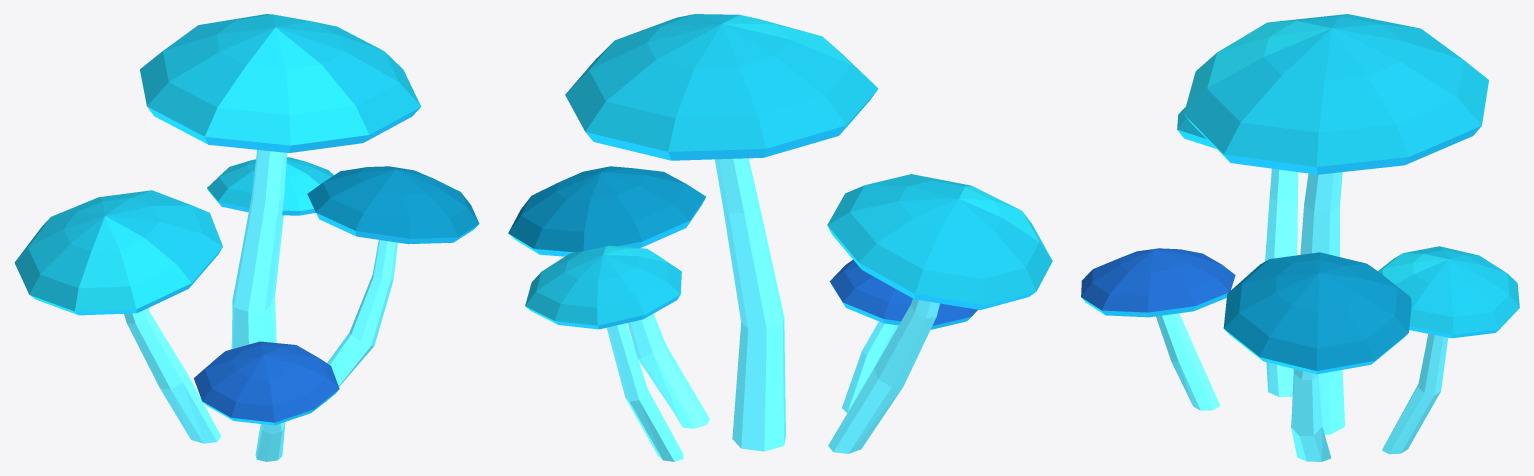
The model's file is Hongos_bioluminiscentes.glb.
3 views of the same model, side by side, from view 1: azimuth 30°, elevation 25°; view 2: azimuth 150°, elevation 25°; view 3: azimuth 270°, elevation 25° (orthographic). The views are drawn at different scales.
Parts seen in each view (by area): view 1: 01_Principal_Sombrero_cian, 02_Izquierdo_Sombrero_cian, 01_Principal_Facetas_cian, 03_Derecho_Sombrero_azul_turquesa, 04_Frontal_Sombrero_azul, 01_Principal_Tallos_cian, 02_Izquierdo_Facetas_cian, 02_Izquierdo_Tallos_cian, 03_Derecho_Tallos_cian, 05_Posterior_Sombrero_cian, 01_Principal_Borde_azul_emisivo, 05_Posterior_Facetas_cian (+3 smaller); view 2: 01_Principal_Sombrero_cian, 02_Izquierdo_Sombrero_cian, 01_Principal_Tallos_cian, 03_Derecho_Sombrero_azul_turquesa, 05_Posterior_Sombrero_cian, 02_Izquierdo_Tallos_cian, 03_Derecho_Tallos_cian, 05_Posterior_Tallos_cian, 04_Frontal_Sombrero_azul, 01_Principal_Borde_azul_emisivo, 01_Principal_Facetas_cian, 04_Frontal_Tallos_cian (+4 smaller); view 3: 01_Principal_Sombrero_cian, 03_Derecho_Sombrero_azul_turquesa, 05_Posterior_Sombrero_cian, 04_Frontal_Sombrero_azul, 01_Principal_Tallos_cian, 01_Principal_Facetas_cian, 02_Izquierdo_Tallos_cian, 05_Posterior_Tallos_cian, 04_Frontal_Tallos_cian, 03_Derecho_Tallos_cian, 01_Principal_Borde_azul_emisivo, 05_Posterior_Facetas_cian (+2 smaller).
Part boxes in pixels (x1,y1,x2,y2): 01_Principal_Sombrero_cian: (140, 14, 421, 136); 02_Izquierdo_Sombrero_cian: (14, 190, 222, 311); 01_Principal_Facetas_cian: (205, 27, 368, 145); 03_Derecho_Sombrero_azul_turquesa: (307, 166, 479, 238); 04_Frontal_Sombrero_azul: (193, 341, 339, 422); 01_Principal_Tallos_cian: (231, 150, 286, 348); 02_Izquierdo_Facetas_cian: (75, 216, 191, 311); 02_Izquierdo_Tallos_cian: (124, 308, 221, 443); 03_Derecho_Tallos_cian: (324, 240, 397, 402); 05_Posterior_Sombrero_cian: (207, 157, 333, 207); 01_Principal_Borde_azul_emisivo: (147, 107, 420, 152); 05_Posterior_Facetas_cian: (282, 163, 319, 210); 01_Principal_Sombrero_cian: (565, 14, 878, 151); 02_Izquierdo_Sombrero_cian: (827, 174, 1052, 305); 01_Principal_Tallos_cian: (714, 158, 785, 451); 03_Derecho_Sombrero_azul_turquesa: (508, 166, 705, 252); 05_Posterior_Sombrero_cian: (525, 246, 681, 325); 02_Izquierdo_Tallos_cian: (828, 299, 939, 453); 03_Derecho_Tallos_cian: (627, 314, 709, 428); 05_Posterior_Tallos_cian: (607, 323, 683, 461); 04_Frontal_Sombrero_azul: (830, 260, 977, 325); 01_Principal_Borde_azul_emisivo: (585, 90, 877, 160); 01_Principal_Facetas_cian: (723, 15, 875, 85); 04_Frontal_Tallos_cian: (842, 321, 898, 412); 01_Principal_Sombrero_cian: (1184, 14, 1488, 166); 03_Derecho_Sombrero_azul_turquesa: (1223, 252, 1411, 370); 05_Posterior_Sombrero_cian: (1395, 246, 1519, 334); 04_Frontal_Sombrero_azul: (1081, 248, 1235, 312); 01_Principal_Tallos_cian: (1291, 172, 1344, 434); 01_Principal_Facetas_cian: (1184, 21, 1331, 113); 02_Izquierdo_Tallos_cian: (1265, 168, 1298, 396); 05_Posterior_Tallos_cian: (1382, 334, 1447, 454); 04_Frontal_Tallos_cian: (1156, 313, 1220, 410); 03_Derecho_Tallos_cian: (1291, 369, 1331, 461); 01_Principal_Borde_azul_emisivo: (1184, 115, 1481, 174); 05_Posterior_Facetas_cian: (1378, 253, 1448, 284).
Size of the model in its own units: 0.752 by 0.5907 by 0.5717.
